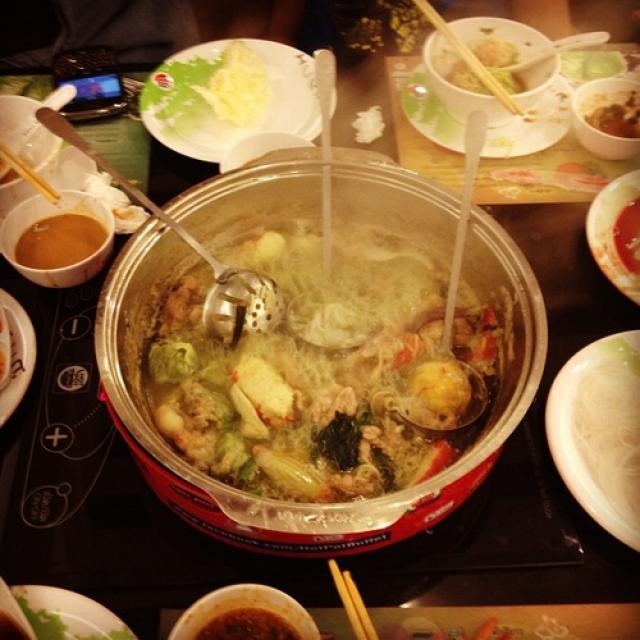汤锅炖物: (87, 128, 548, 547)
